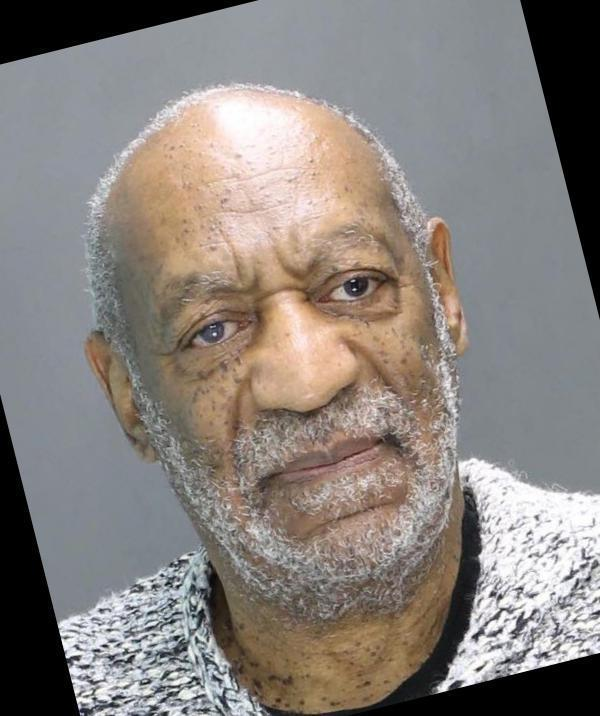Sober: (127, 144, 445, 579)
